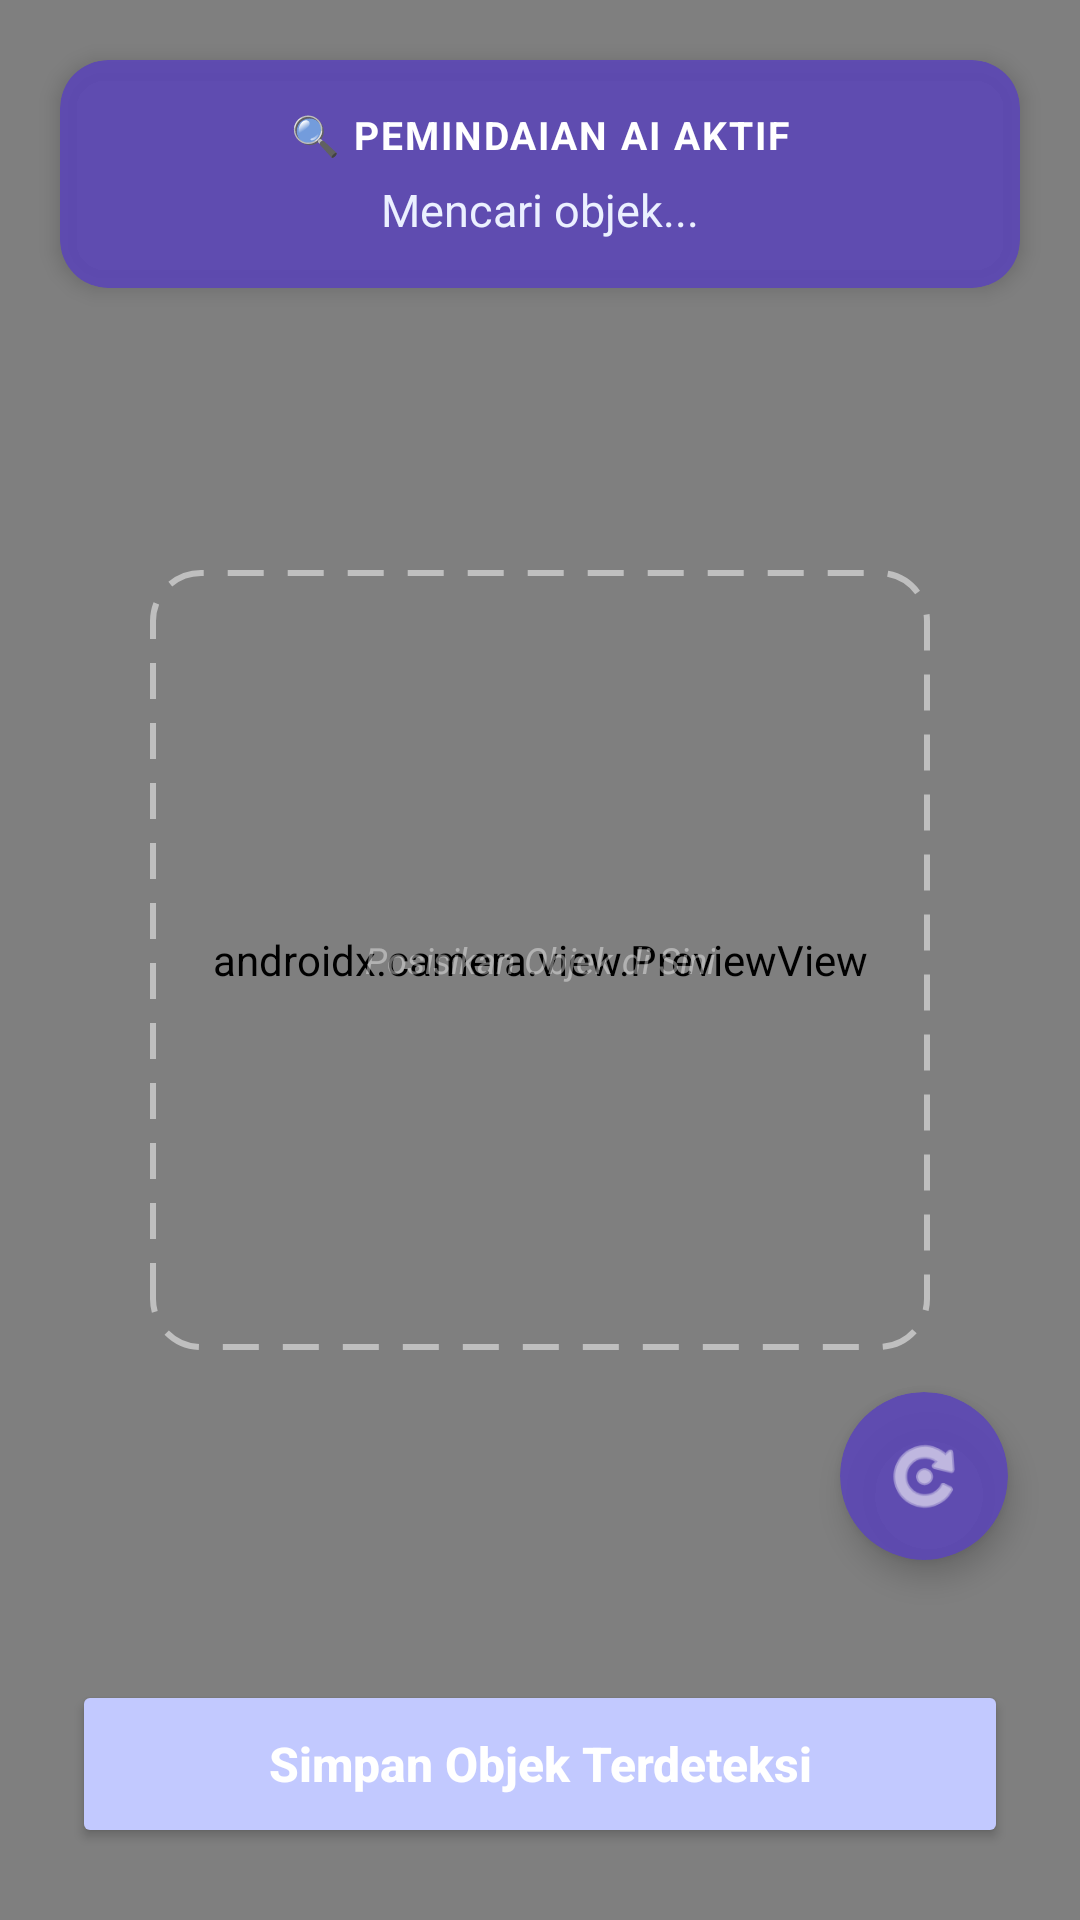

Icons on this 1080×1920 Android screen, each with its box as bbox=[x1, y1, x2, y2]:
rotate: bbox=[840, 1392, 1008, 1560]
